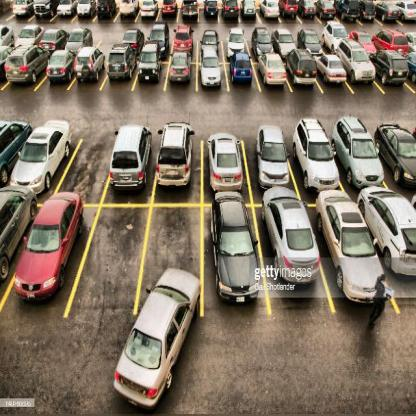free: (152, 204, 206, 284), (93, 208, 138, 302), (71, 137, 105, 192), (98, 28, 122, 41)
occupied: (209, 191, 261, 308), (322, 194, 373, 303), (266, 188, 312, 305), (27, 193, 68, 301), (338, 112, 380, 182), (110, 121, 148, 197), (157, 118, 195, 188), (296, 115, 333, 185), (253, 120, 290, 187), (22, 129, 67, 183), (205, 127, 242, 188), (385, 117, 416, 185), (10, 43, 46, 83), (346, 40, 374, 84), (378, 51, 408, 87), (107, 43, 135, 81), (76, 42, 104, 79), (290, 48, 318, 84), (199, 51, 225, 87), (138, 43, 162, 80), (263, 54, 289, 87), (230, 51, 256, 83), (320, 51, 346, 83), (47, 49, 72, 82), (173, 23, 197, 52), (170, 52, 193, 81), (348, 19, 371, 45), (225, 23, 246, 50), (323, 19, 345, 43), (378, 25, 404, 45), (272, 26, 294, 49), (68, 21, 90, 42), (298, 29, 322, 48), (201, 26, 220, 49), (252, 25, 270, 49), (43, 21, 63, 42), (16, 17, 36, 38), (146, 24, 168, 40), (122, 27, 144, 42)
